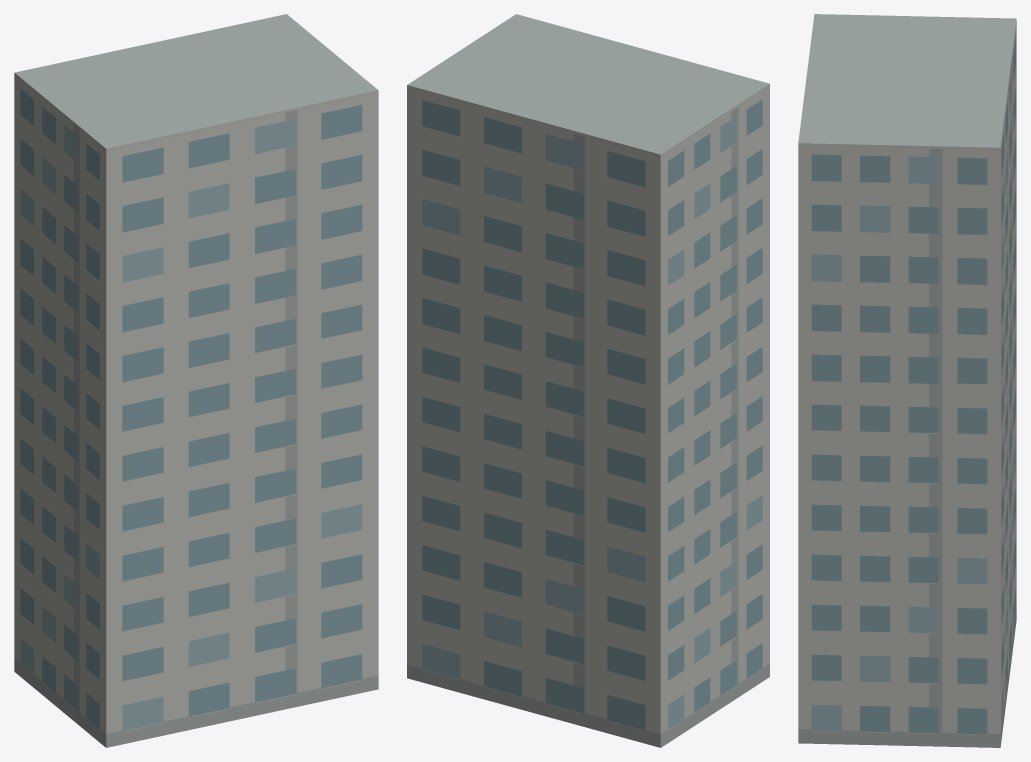
The model's file is residential-4163d239-5614-4dd2-bc4c-87ab4d108c97.glb.
3 views of the same model, side by side, from view 1: azimuth 30°, elevation 25°; view 2: azimuth 150°, elevation 25°; view 3: azimuth 270°, elevation 25° (orthographic).
Parts seen in each view (by area): view 1: residential-4163d239-5614-4dd2-bc4c-87ab4d108c97.tmp; view 2: residential-4163d239-5614-4dd2-bc4c-87ab4d108c97.tmp; view 3: residential-4163d239-5614-4dd2-bc4c-87ab4d108c97.tmp.
Boxes of the visible parts, x1,y1,x2,y2 form: residential-4163d239-5614-4dd2-bc4c-87ab4d108c97.tmp: [14, 14, 378, 747]; residential-4163d239-5614-4dd2-bc4c-87ab4d108c97.tmp: [407, 14, 769, 747]; residential-4163d239-5614-4dd2-bc4c-87ab4d108c97.tmp: [798, 14, 1016, 747].
Bounding box in the file's own units: 27.23 × 57 × 18.81.
